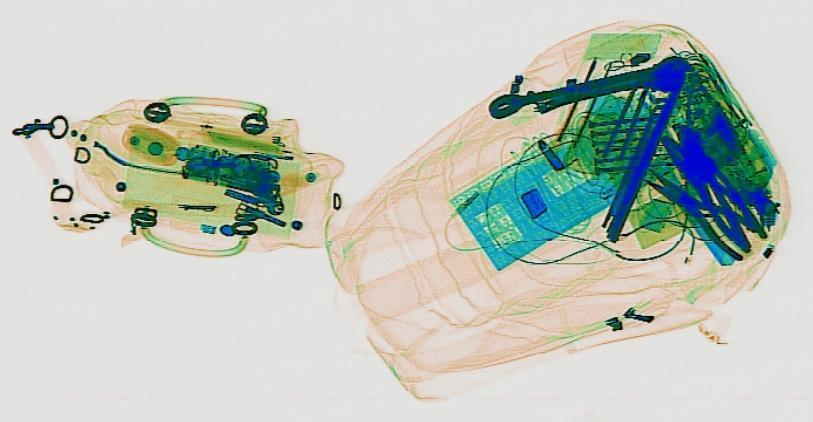Pliers: (616, 161, 788, 260), (642, 131, 776, 252)
Wrench: (472, 53, 707, 127)
